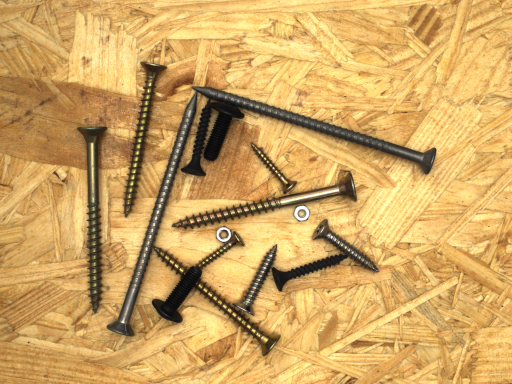screw_long: (91, 70, 225, 354), (171, 62, 453, 189)
